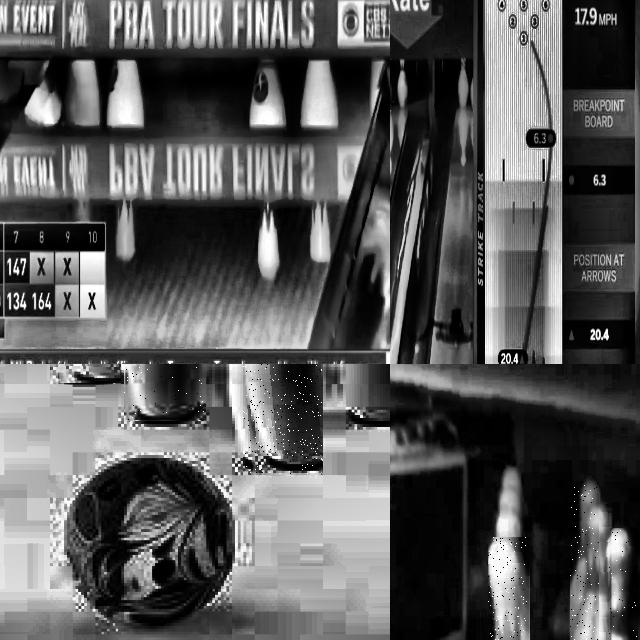bowling-ball: (67, 458, 235, 629)
bowling-pins: (244, 364, 322, 474), (570, 482, 599, 640), (125, 364, 205, 420), (490, 537, 522, 640), (586, 504, 609, 640), (606, 528, 633, 640), (397, 59, 408, 107), (458, 58, 469, 106)
